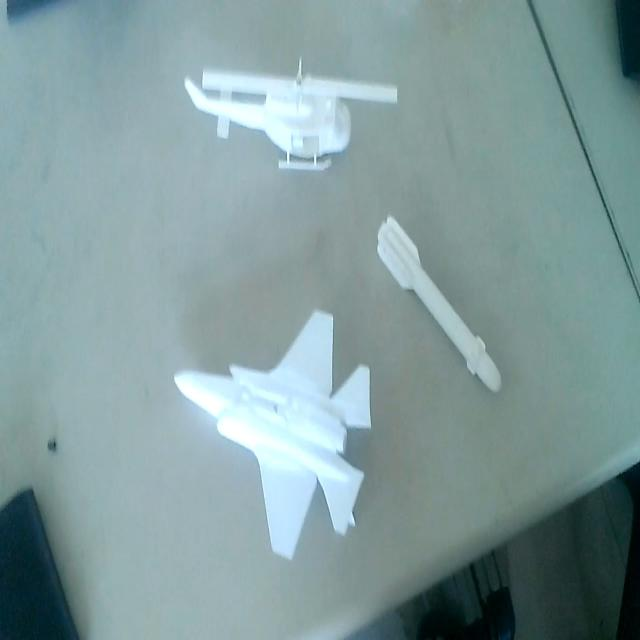Helicopter: (181, 54, 402, 174)
Jet: (175, 306, 375, 564)
Rocket: (377, 213, 503, 400)
